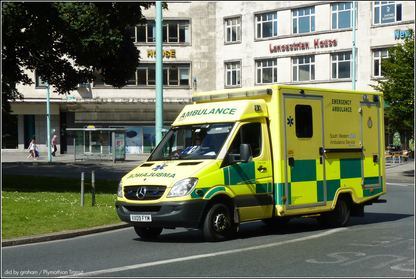ambulance: (114, 81, 387, 243)
